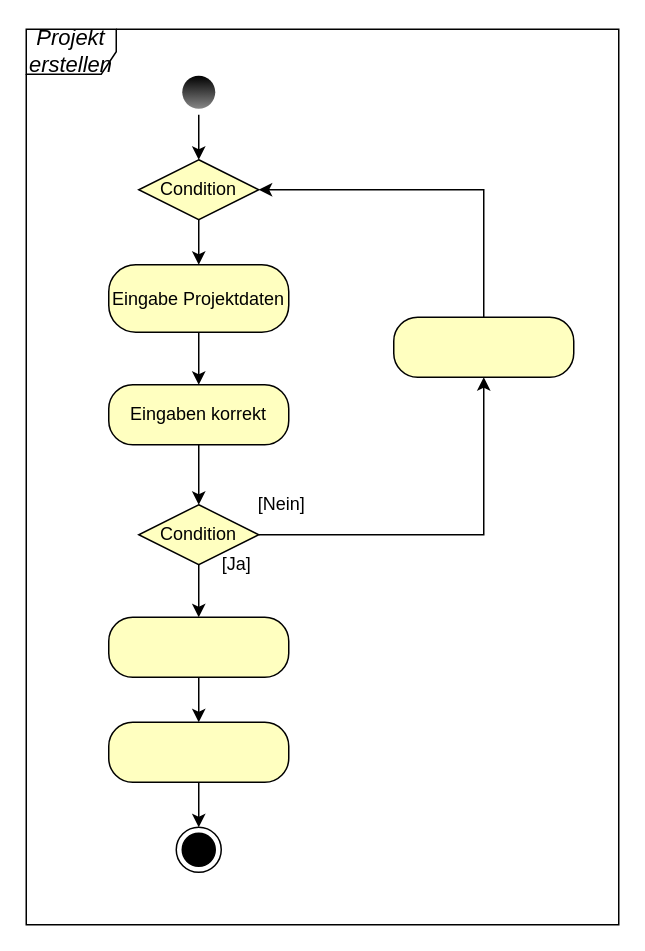
This 645x951 diagram has some shape labels left out. Here are the shapes that lost their labels. From the top down, the box of each, then its label:
(392, 316, 574, 377): Fehler markieren
(107, 616, 289, 677): Projektdaten abspeichern
(107, 721, 289, 782): Projekt erfolgreich erstellt
